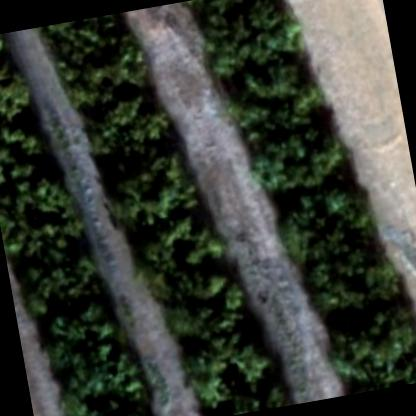Canopy-Citrus: (236, 93, 352, 196), (203, 18, 321, 114), (271, 172, 383, 272), (297, 236, 407, 325), (181, 320, 285, 408), (323, 301, 415, 396), (99, 148, 201, 232), (0, 172, 91, 266), (51, 32, 161, 109), (131, 207, 233, 288), (154, 261, 251, 346), (81, 88, 174, 171), (35, 296, 128, 372), (16, 238, 105, 317), (53, 350, 154, 415), (184, 0, 292, 42), (36, 12, 130, 58), (0, 120, 55, 196), (0, 58, 45, 144), (214, 375, 291, 415), (0, 32, 17, 87), (82, 409, 168, 415)
